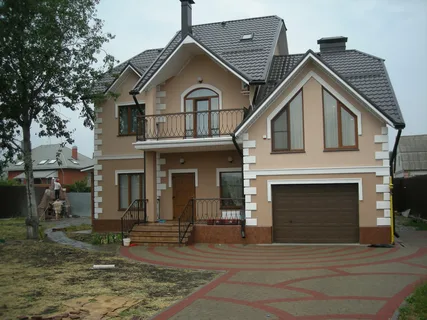private_hause: (85, 12, 403, 250)
